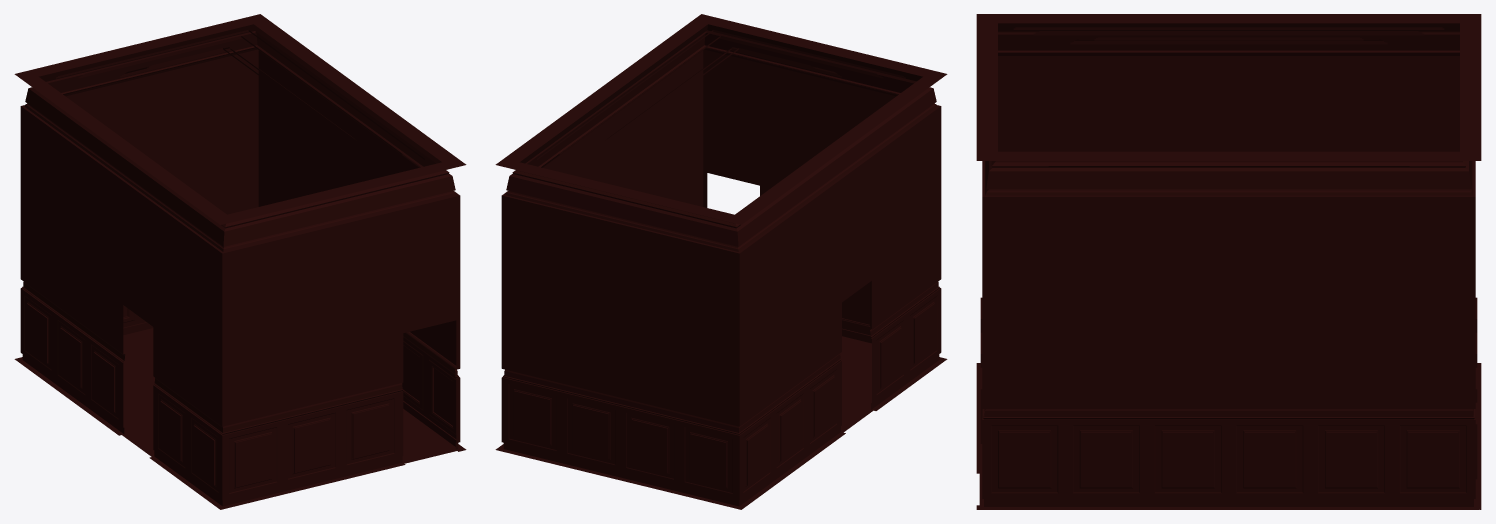
Rendered from 2door_6.FBX.
3 renders of one model, left to right at view 1: azimuth 30°, elevation 25°; view 2: azimuth 150°, elevation 25°; view 3: azimuth 270°, elevation 25°, orthographic. The views are drawn at different scales.
Visible parts, largest first — view 1: wall, floor, ceiling; view 2: wall, floor, ceiling; view 3: wall, ceiling, floor.
Boxes of the visible parts, left/top/right/bottom form: wall: left=14, top=14, right=466, bottom=509; floor: left=19, top=328, right=461, bottom=508; ceiling: left=56, top=30, right=424, bottom=159; wall: left=495, top=14, right=947, bottom=509; floor: left=500, top=336, right=942, bottom=508; ceiling: left=537, top=30, right=905, bottom=159; wall: left=976, top=14, right=1481, bottom=509; ceiling: left=1013, top=27, right=1444, bottom=44; floor: left=979, top=364, right=1478, bottom=508.
Bounding box in the file's own units: 160 × 232 × 192.
